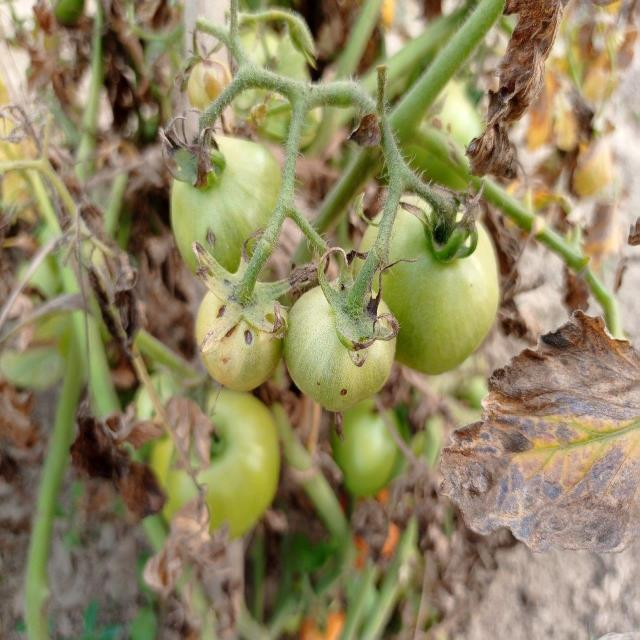Unripe: (360, 185, 499, 378), (286, 277, 397, 411), (194, 268, 288, 394)
